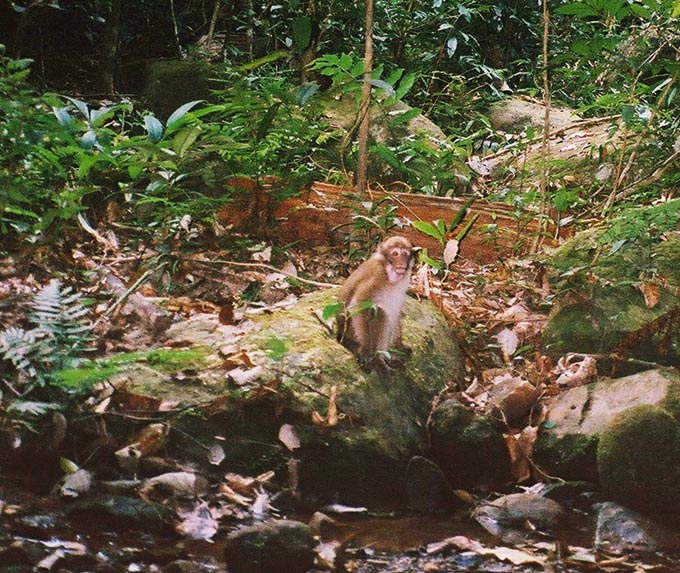monkey: (319, 232, 428, 389)
